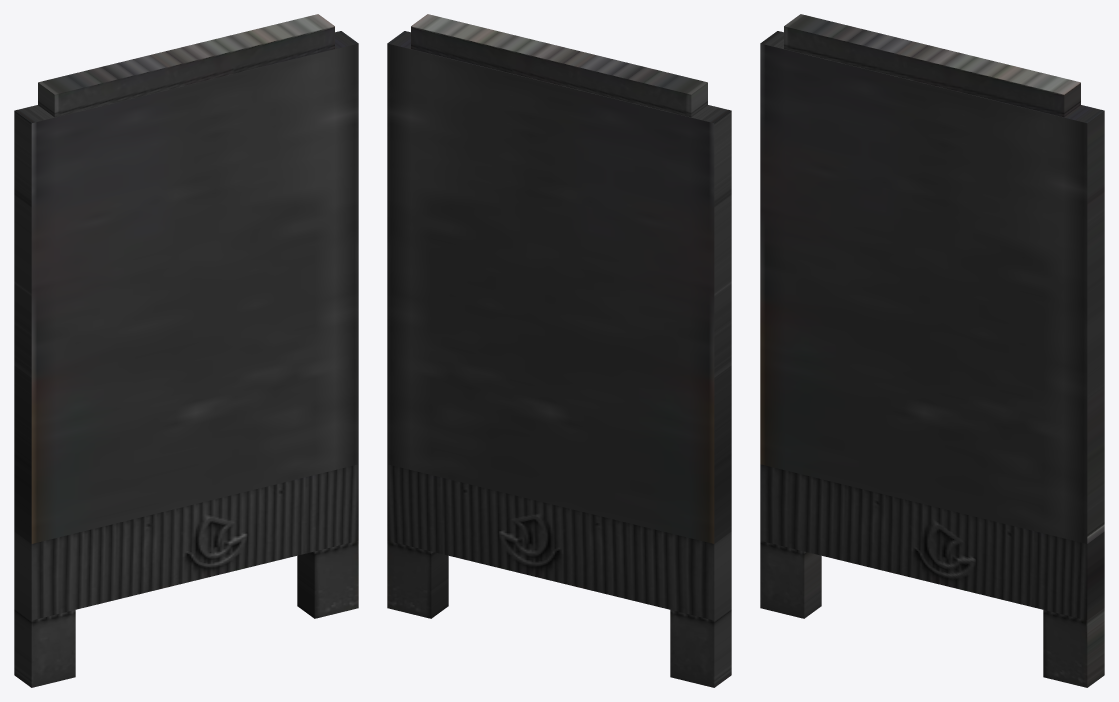
Rendered from Panneau.fbx.
3 renders of one model, left to right at view 1: azimuth 30°, elevation 25°; view 2: azimuth 150°, elevation 25°; view 3: azimuth 330°, elevation 25°, orthographic.
Parts seen in each view (by area): view 1: Panneau; view 2: Panneau; view 3: Panneau.
Part boxes in pixels (x1=…): Panneau: x1=14, y1=14, x2=358, y2=687; Panneau: x1=387, y1=14, x2=731, y2=687; Panneau: x1=760, y1=14, x2=1104, y2=687.
Bounding box in the file's own units: 1.22 × 0.1123 × 2.1.
1 material, 1 textured.
